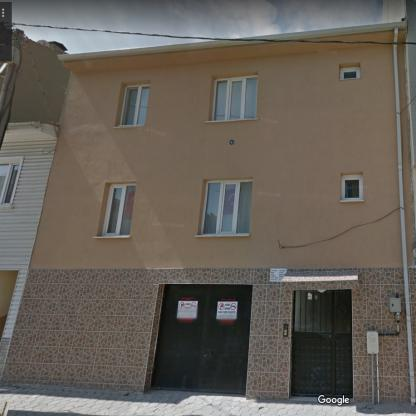door: (151, 284, 252, 394), (292, 289, 352, 397)
window: (200, 180, 251, 235), (213, 76, 256, 121), (100, 184, 134, 236), (119, 85, 149, 126), (1, 157, 22, 204), (340, 175, 363, 200), (340, 65, 361, 79)
